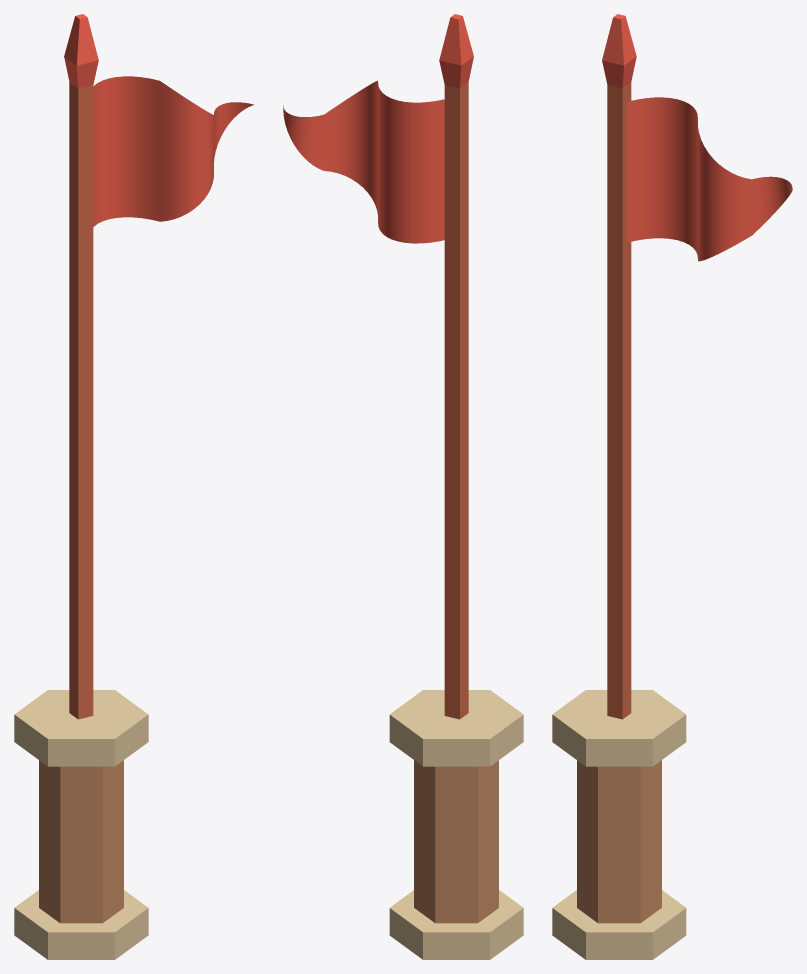
The model's file is SwordFifteen.fbx.
The picture shows the model from 3 angles, left to right: view 1: azimuth 30°, elevation 25°; view 2: azimuth 150°, elevation 25°; view 3: azimuth 330°, elevation 25°; orthographic projection.
Visible parts, largest first — view 1: mergedBlocks; view 2: mergedBlocks; view 3: mergedBlocks.
Boxes of the visible parts, x1,y1,x2,y2 form: mergedBlocks: (14,14,253,959); mergedBlocks: (283,14,523,959); mergedBlocks: (552,14,792,959).
Size of the model in its own units: 4.23 by 16.63 by 2.2.
